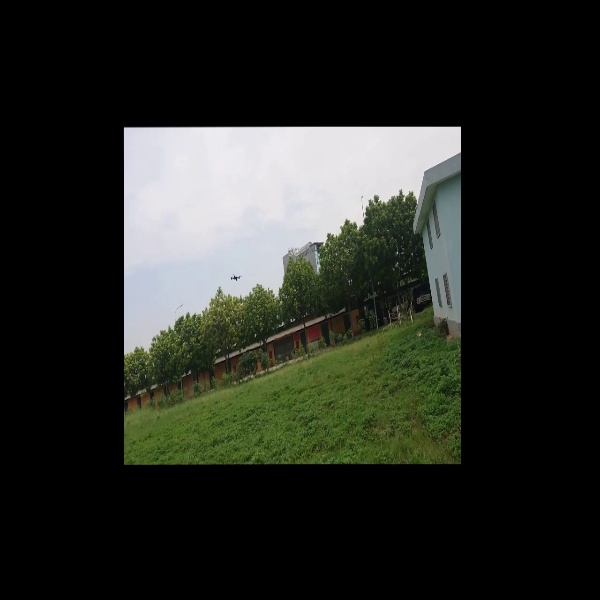drone: (229, 271, 247, 285)
